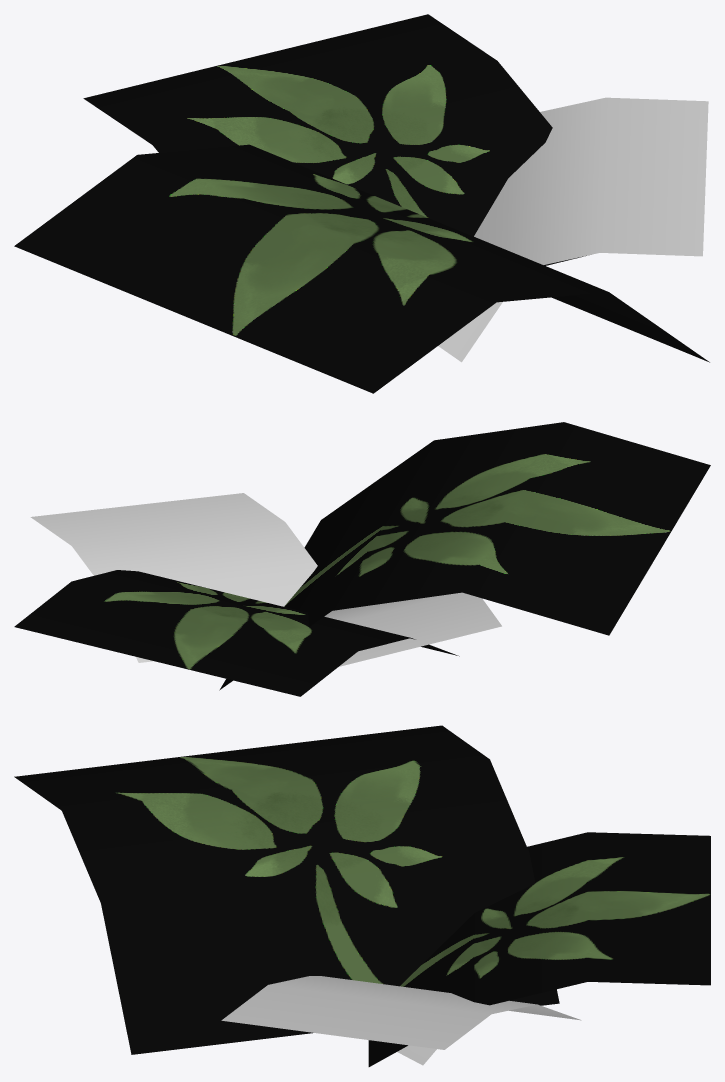
The model's file is bamboofoliage.fbx.
3 renders of one model, top to bottom at view 1: azimuth 30°, elevation 25°; view 2: azimuth 150°, elevation 25°; view 3: azimuth 270°, elevation 25°, orthographic. The views are drawn at different scales.
Parts seen in each view (by area): view 1: Plane.004; view 2: Plane.004; view 3: Plane.004.
Boxes of the visible parts, left/top/right/bottom form: Plane.004: left=14, top=14, right=709, bottom=393; Plane.004: left=14, top=422, right=710, bottom=696; Plane.004: left=14, top=725, right=710, bottom=1066.
Bounding box in the file's own units: 253 × 60.8 × 247.
